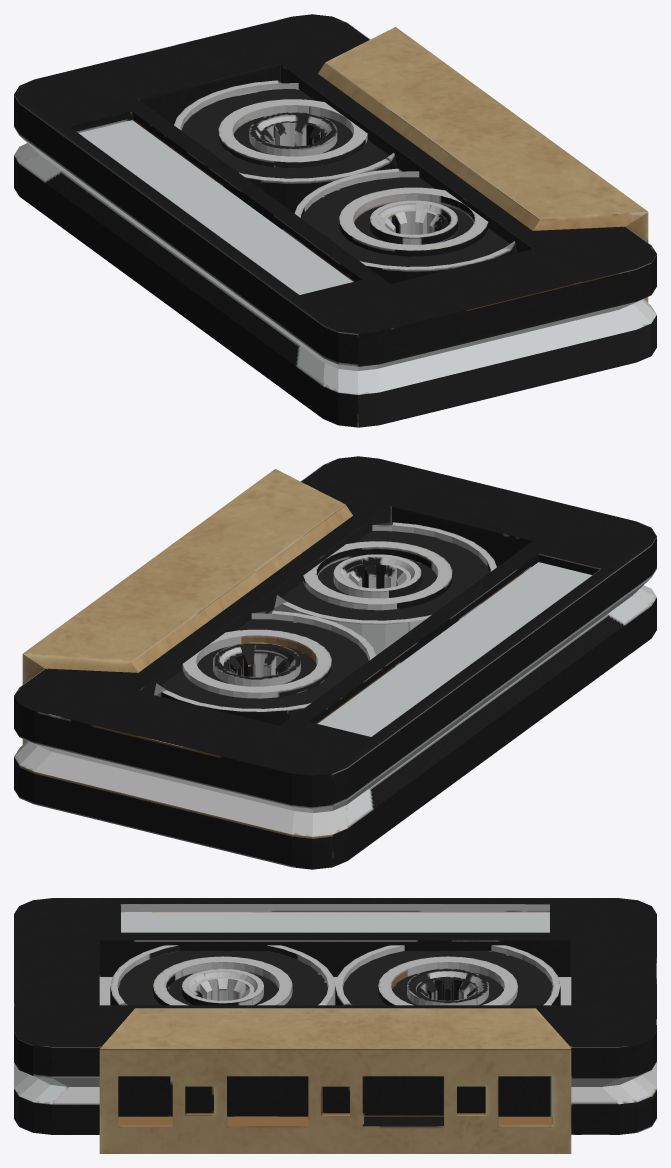
Rendered from cassete1.fbx.
3 renders of one model, top to bottom at view 1: azimuth 30°, elevation 25°; view 2: azimuth 150°, elevation 25°; view 3: azimuth 270°, elevation 25°, orthographic. The views are drawn at different scales.
Visible parts, largest first — view 1: Cube; view 2: Cube; view 3: Cube.
Boxes of the visible parts, x1,y1,x2,y2 form: Cube: (14,14,656,427); Cube: (14,456,656,869); Cube: (14,898,656,1153).
Size of the model in its own units: 235 by 72 by 400.
Materials: 1 (1 with a texture image).
